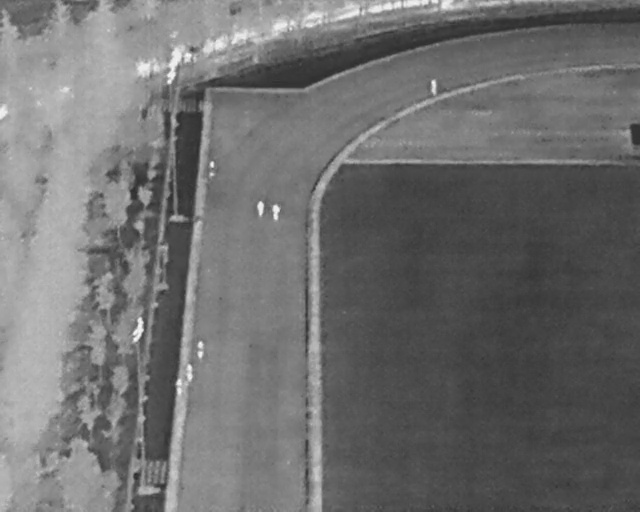Person: (271, 202, 281, 222), (256, 200, 265, 218), (197, 340, 205, 360), (185, 363, 193, 382), (209, 159, 216, 178), (176, 377, 183, 396), (431, 77, 437, 97)
